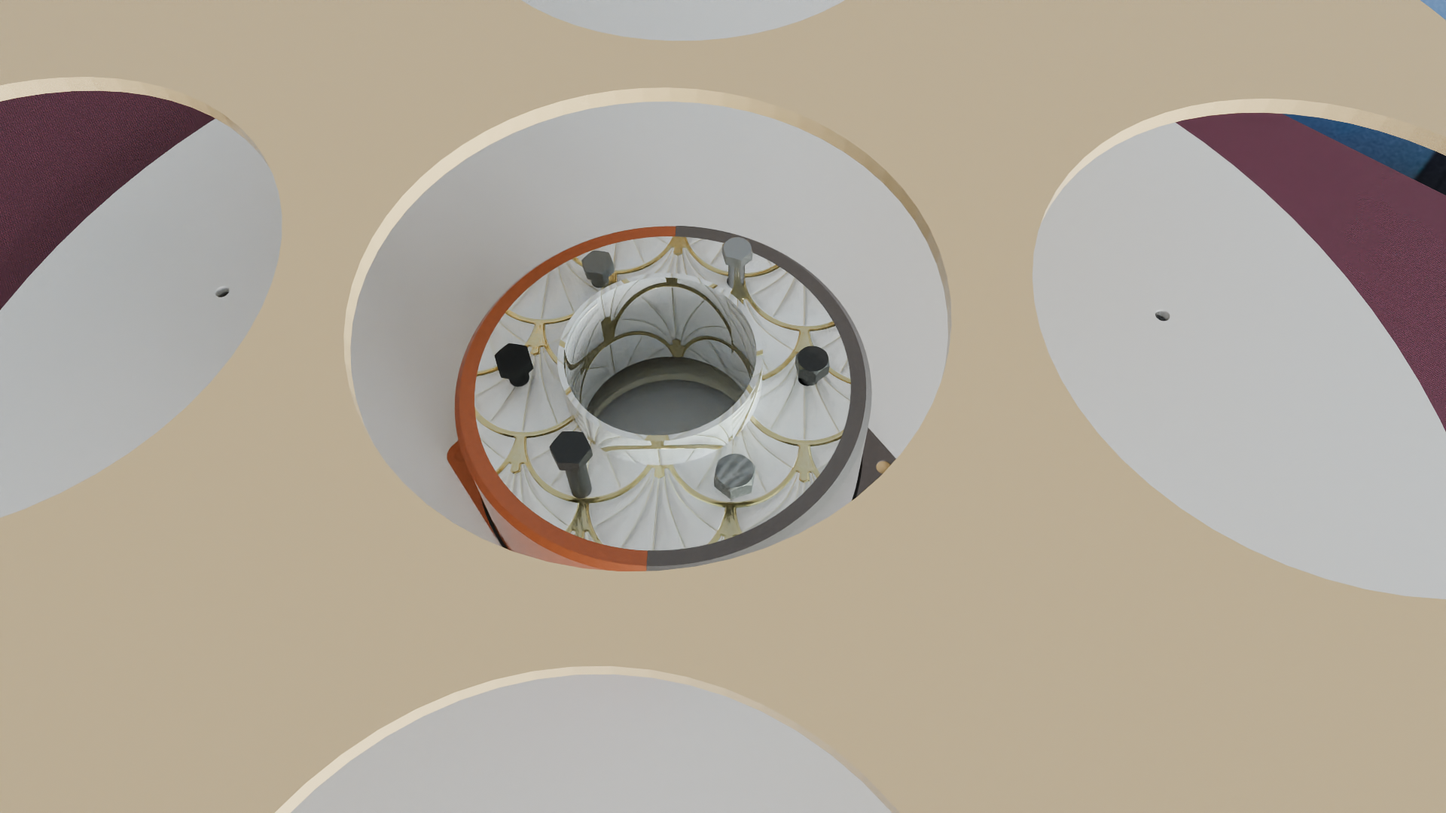bolt: (714, 453, 755, 492), (549, 431, 591, 464), (494, 343, 532, 373), (796, 346, 830, 376), (722, 236, 753, 261), (581, 251, 614, 274)
